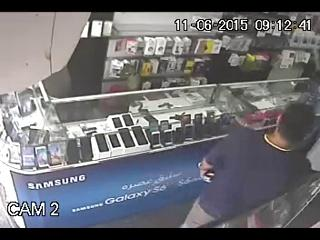Normal: (180, 100, 318, 227)
